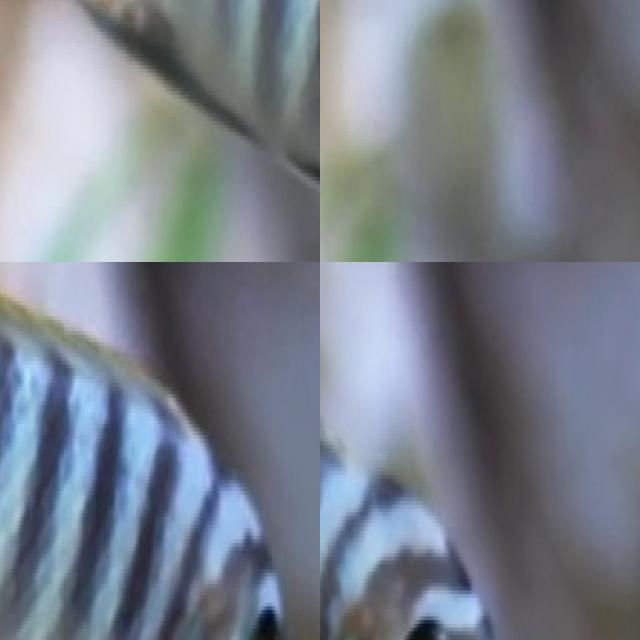fish: (0, 0, 320, 262), (320, 285, 531, 640)
